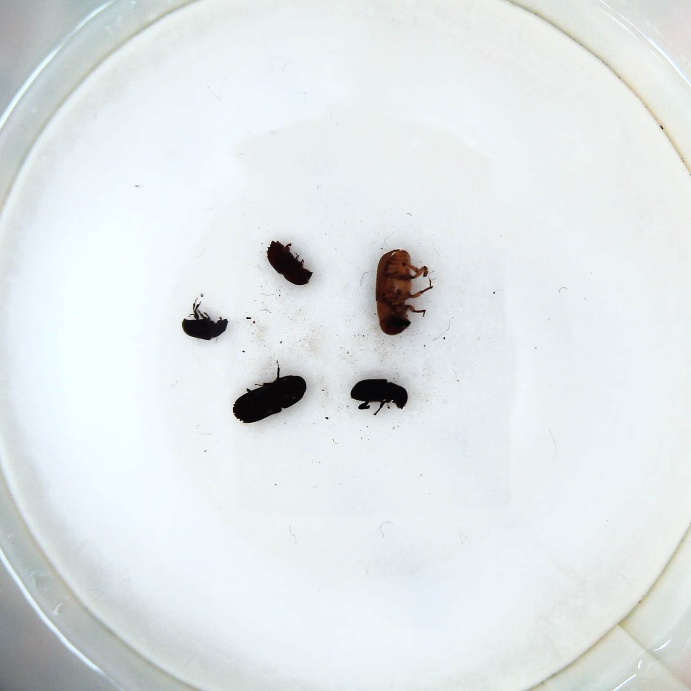armandi: (348, 377, 409, 415)
boerner: (231, 365, 308, 426)
coleoptera: (180, 299, 230, 343)
leconte: (374, 247, 434, 335)
linnaeus: (265, 240, 313, 288)
